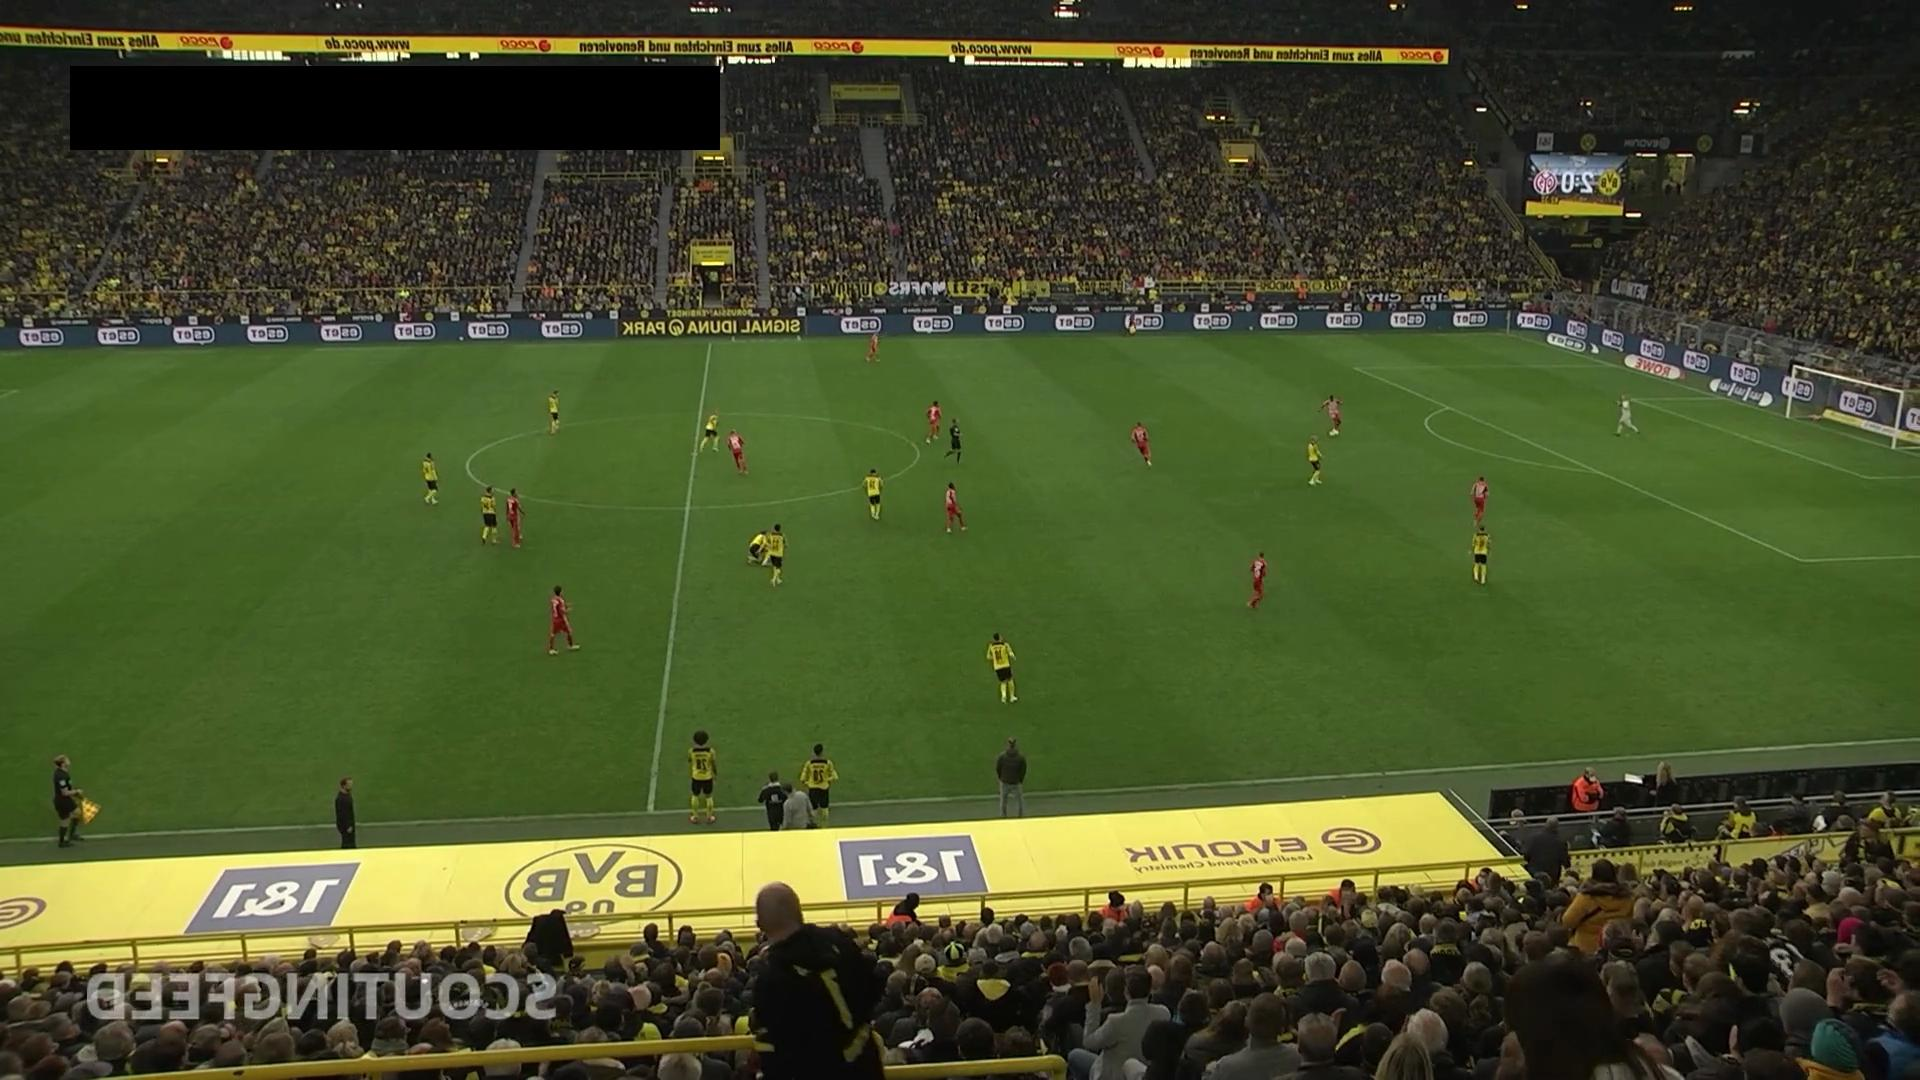ball: (1326, 429, 1336, 438)
goalkeeper: (1614, 391, 1640, 436)
player: (799, 743, 839, 828), (686, 729, 720, 824), (546, 584, 580, 655), (986, 631, 1018, 704), (765, 522, 787, 588), (943, 481, 968, 534), (479, 485, 500, 545), (1471, 525, 1492, 585), (506, 488, 526, 549), (862, 468, 884, 521), (1247, 551, 1267, 609), (745, 529, 773, 567), (421, 451, 440, 505), (727, 429, 749, 475), (1471, 475, 1489, 529), (699, 410, 721, 454), (1131, 421, 1152, 467), (1320, 394, 1342, 436), (1307, 434, 1324, 486), (925, 399, 943, 443), (547, 388, 561, 435), (864, 329, 882, 364)
referee: (52, 754, 100, 847), (942, 419, 963, 464), (1126, 310, 1137, 337)
